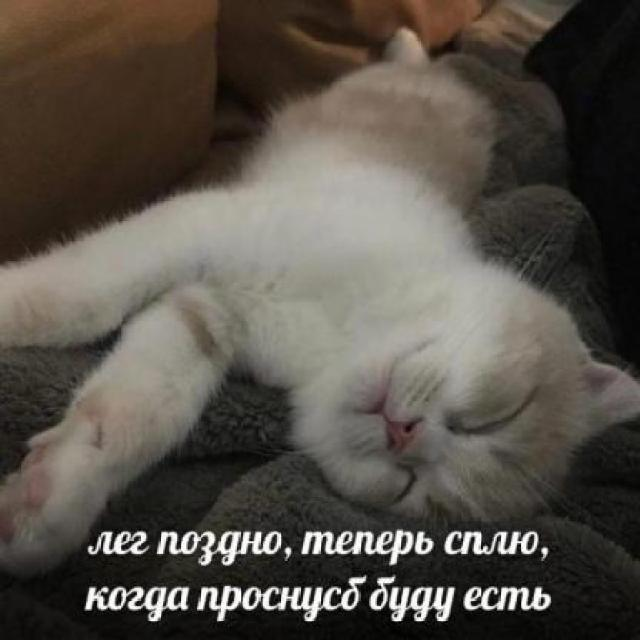cat: (217, 56, 628, 536)
